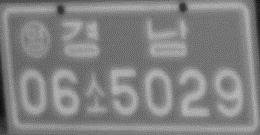0: (144, 67, 175, 117), (19, 68, 48, 116)
2: (178, 68, 210, 117)
5: (108, 67, 140, 117)
6: (51, 68, 81, 117)
9: (213, 68, 245, 118)
경남_D: (59, 16, 193, 60)
소: (82, 71, 110, 114)
영: (19, 18, 52, 59)
